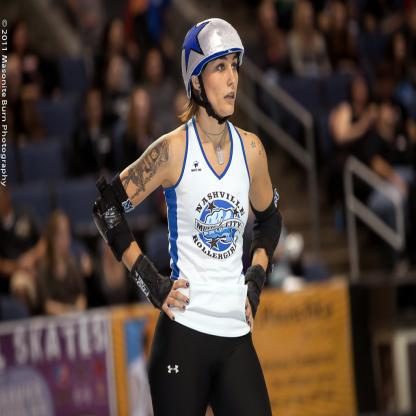Helmet: (185, 16, 245, 125)
